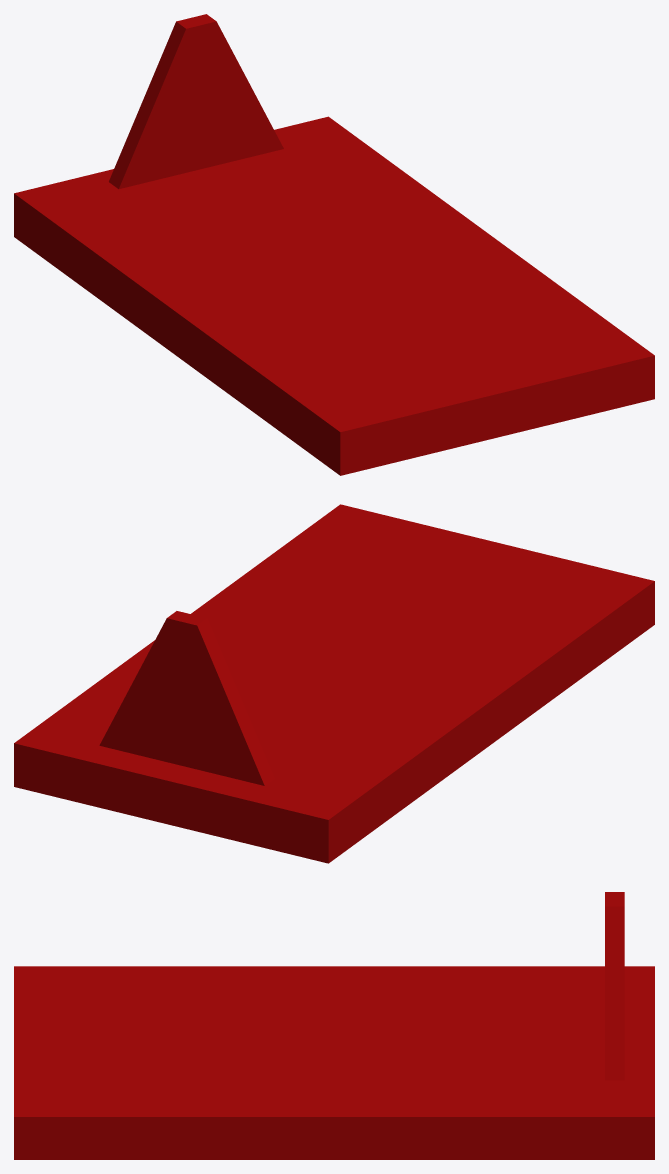
Rendered from SM_Prop_Raft_01_Collision.glb.
3 renders of one model, top to bottom at view 1: azimuth 30°, elevation 25°; view 2: azimuth 150°, elevation 25°; view 3: azimuth 270°, elevation 25°, orthographic.
Parts seen in each view (by area): view 1: SM_Prop_Raft_01_Collision; view 2: SM_Prop_Raft_01_Collision; view 3: SM_Prop_Raft_01_Collision.
Boxes of the visible parts, x1,y1,x2,y2 form: SM_Prop_Raft_01_Collision: (14, 14, 654, 475); SM_Prop_Raft_01_Collision: (14, 504, 654, 863); SM_Prop_Raft_01_Collision: (14, 892, 654, 1159).
Bounding box in the file's own units: 2.41 × 1.4 × 4.33.
